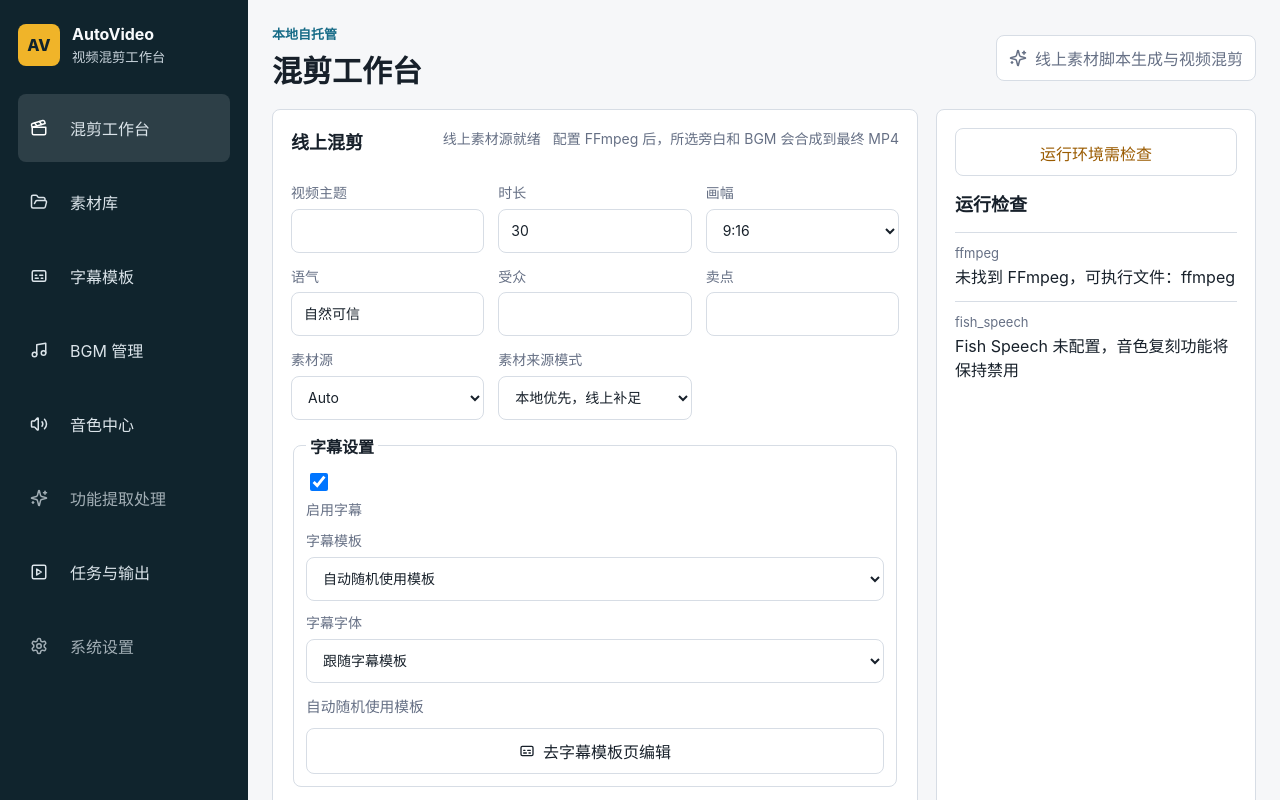
Scenario: AutoVideo shell › opens BGM management from navigation and renders library controls
Step 1. Click the link "BGM 管理" → (87, 351), box [30, 341, 143, 361]
(page scrolled)
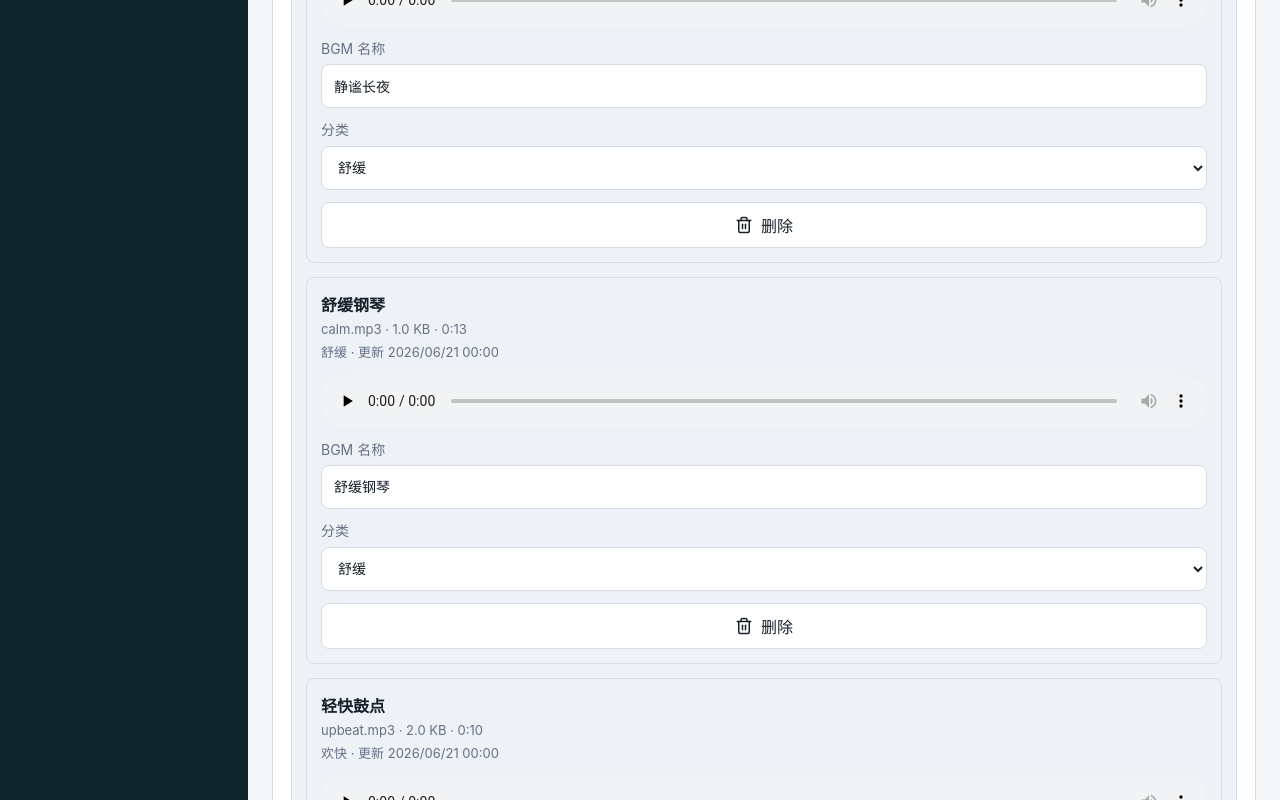
expect the text "舒缓 · 更新 2026/06/21 00:00" is shown: met, box [321, 344, 499, 360]
